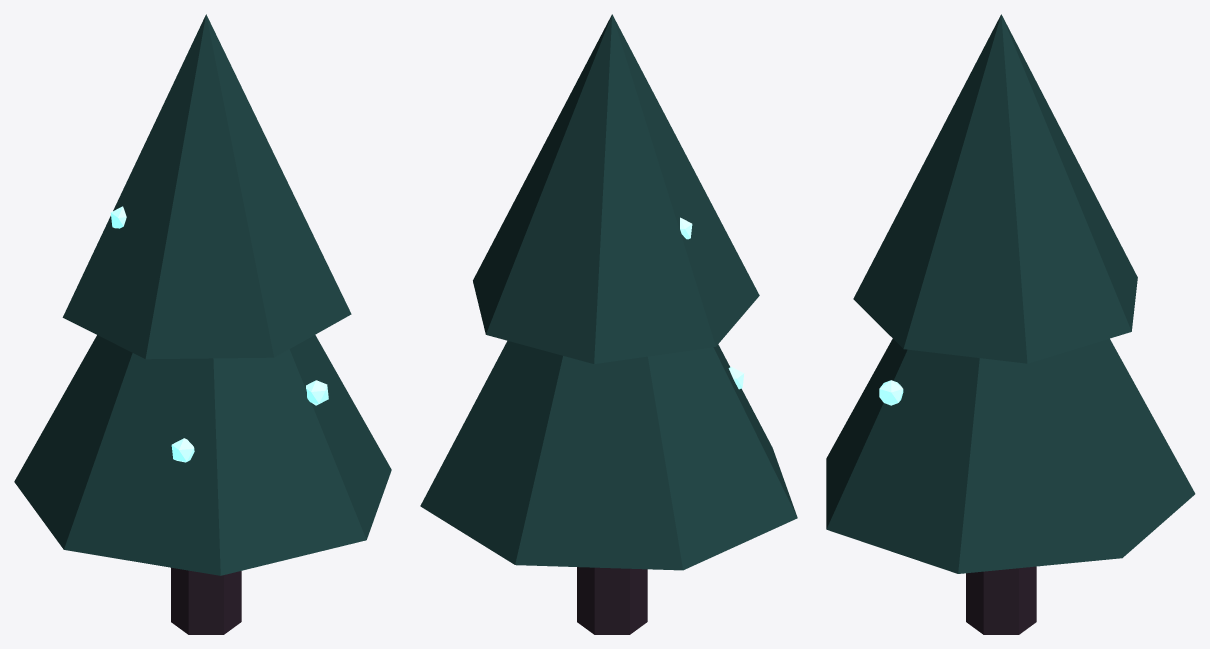
The model's file is pin_nuit_modele.glb.
3 views of the same model, side by side, from view 1: azimuth 30°, elevation 25°; view 2: azimuth 150°, elevation 25°; view 3: azimuth 270°, elevation 25° (orthographic).
Parts seen in each view (by area): view 1: P2.018, P3.015, P1.018; view 2: P2.018, P3.015, P1.018; view 3: P2.018, P3.015, P1.018.
Part boxes in pixels (x1,y1,x2,y2): P2.018: [14, 335, 391, 575]; P3.015: [62, 14, 351, 359]; P1.018: [171, 567, 241, 634]; P2.018: [420, 340, 797, 570]; P3.015: [473, 14, 759, 364]; P1.018: [577, 567, 647, 634]; P2.018: [826, 338, 1195, 573]; P3.015: [853, 14, 1137, 363]; P1.018: [966, 566, 1036, 634].
Bounding box in the file's own units: 1.07 × 1.9 × 1.05.
